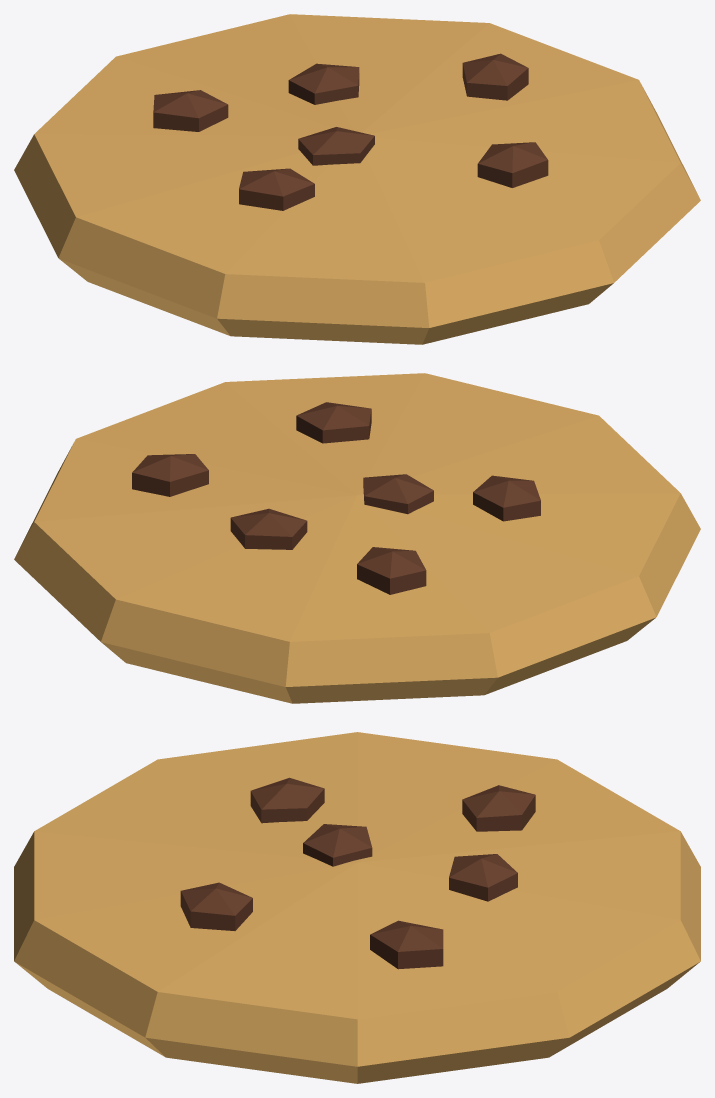
The model's file is Food_Cookie.obj.
3 views of the same model, one above another, from view 1: azimuth 30°, elevation 25°; view 2: azimuth 150°, elevation 25°; view 3: azimuth 270°, elevation 25° (orthographic). The views are drawn at different scales.
Size of the model in its own units: 2.04 by 0.32 by 1.94.
